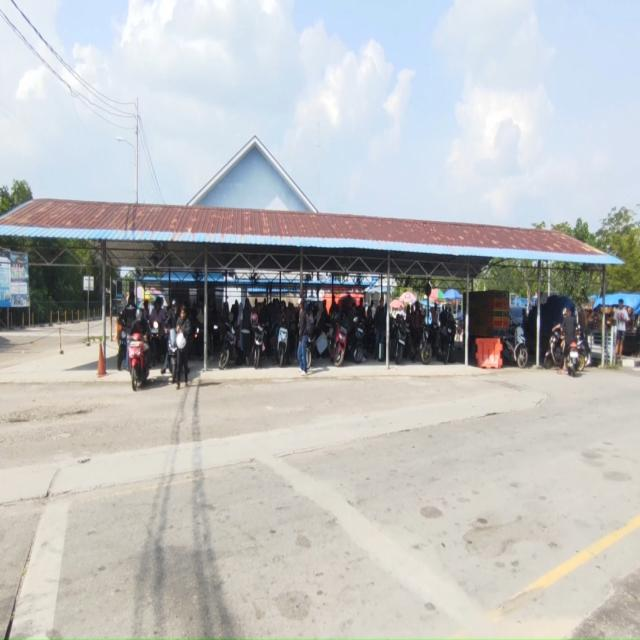Golongan II: (544, 329, 578, 370), (128, 333, 150, 392), (503, 324, 528, 368), (219, 316, 238, 371), (436, 314, 456, 365), (331, 314, 348, 366), (347, 319, 365, 364), (394, 314, 408, 365), (252, 324, 266, 369), (150, 321, 164, 366), (167, 328, 178, 383), (576, 327, 589, 372), (276, 326, 289, 367), (419, 324, 432, 364), (117, 324, 127, 371), (305, 336, 315, 370)
